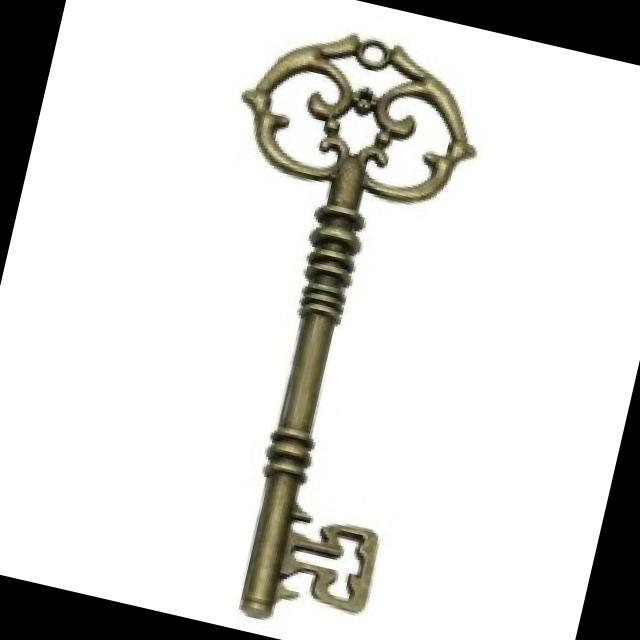anahtar: (121, 0, 504, 640)
